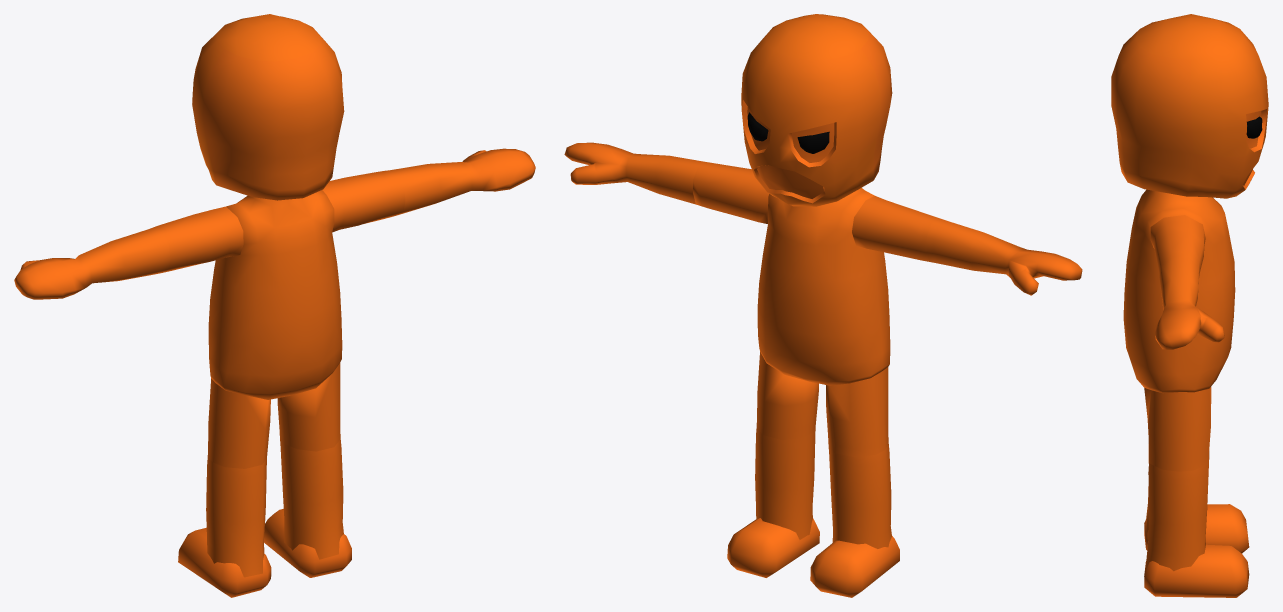
Rendered from enemy_tach.fbx.
The picture shows the model from 3 angles, left to right: view 1: azimuth 30°, elevation 25°; view 2: azimuth 150°, elevation 25°; view 3: azimuth 270°, elevation 25°; orthographic projection.
Visible parts, largest first — view 1: Head, Body, LeftLeg, RightLeg, LeftArm, RightArm, LeftUpLeg, RightUpLeg, LeftShoulder, RightShoulder; view 2: Head, Body, LeftLeg, RightLeg, LeftArm, RightArm, LeftUpLeg, RightUpLeg, LeftShoulder, RightShoulder; view 3: Head, Body, RightLeg, RightUpLeg, RightArm, RightShoulder, LeftLeg.
Part boxes in pixels (x1,y1,x2,y2): Head: [192, 14, 344, 200]; Body: [208, 190, 342, 399]; LeftLeg: [178, 457, 271, 597]; RightLeg: [264, 439, 351, 577]; LeftArm: [14, 227, 170, 299]; RightArm: [391, 148, 535, 214]; LeftUpLeg: [207, 378, 270, 468]; RightUpLeg: [277, 363, 340, 451]; LeftShoulder: [155, 206, 243, 272]; RightShoulder: [322, 170, 405, 232]; Head: [741, 14, 892, 206]; Body: [757, 188, 890, 385]; LeftLeg: [810, 444, 899, 597]; RightLeg: [727, 426, 819, 577]; LeftArm: [926, 218, 1082, 295]; RightArm: [564, 142, 705, 204]; LeftUpLeg: [826, 367, 888, 457]; RightUpLeg: [756, 351, 818, 440]; LeftShoulder: [852, 196, 939, 261]; RightShoulder: [693, 162, 768, 223]; Head: [1111, 14, 1268, 198]; Body: [1123, 189, 1235, 393]; RightLeg: [1144, 457, 1249, 597]; RightUpLeg: [1144, 387, 1211, 471]; RightArm: [1155, 257, 1224, 349]; RightShoulder: [1150, 215, 1205, 278]; LeftLeg: [1144, 444, 1249, 553].
Bounding box in the file's own units: 212 × 217 × 56.66.
Materials: 2 (2 with a texture image).
